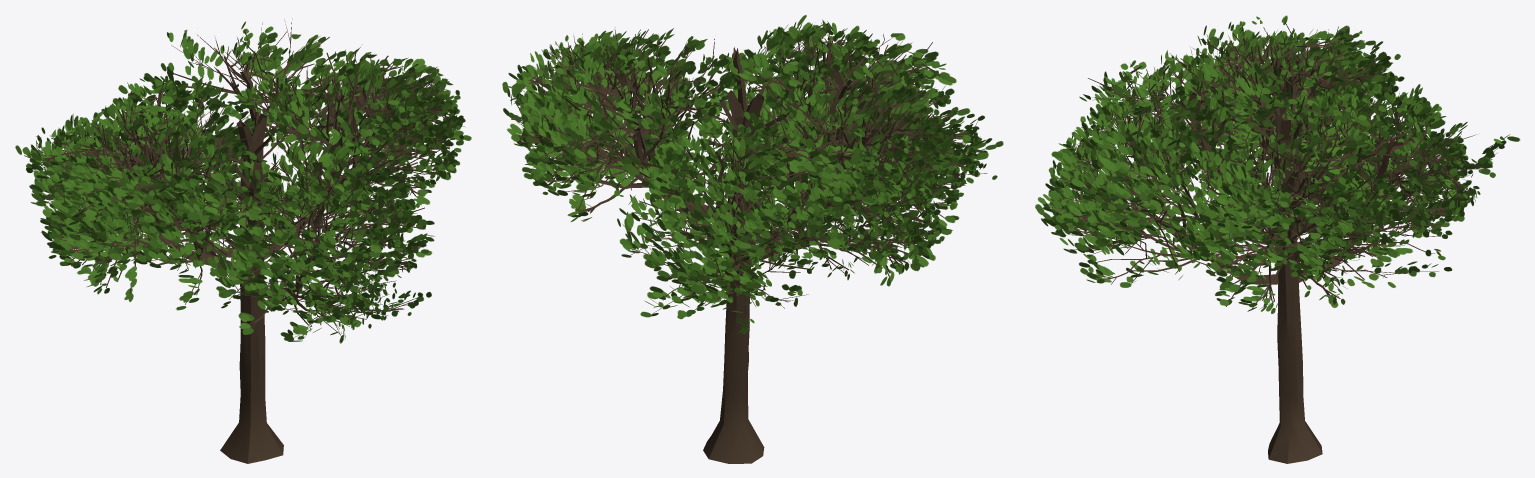
3 views of the same model, side by side, from view 1: azimuth 30°, elevation 25°; view 2: azimuth 150°, elevation 25°; view 3: azimuth 270°, elevation 25° (orthographic). The views are drawn at different scales.
Visible parts, largest first — view 1: oak 01.001_trunk_Mat.001_0.043; view 2: oak 01.001_trunk_Mat.001_0.043; view 3: oak 01.001_trunk_Mat.001_0.043.
Part boxes in pixels (left/top/right/bottom): oak 01.001_trunk_Mat.001_0.043: left=15, top=19, right=471, bottom=463; oak 01.001_trunk_Mat.001_0.043: left=502, top=15, right=1003, bottom=463; oak 01.001_trunk_Mat.001_0.043: left=1035, top=15, right=1520, bottom=463.
Bounding box in the file's own units: 5.15 × 4.04 × 5.08.
2 materials, 1 textured.
